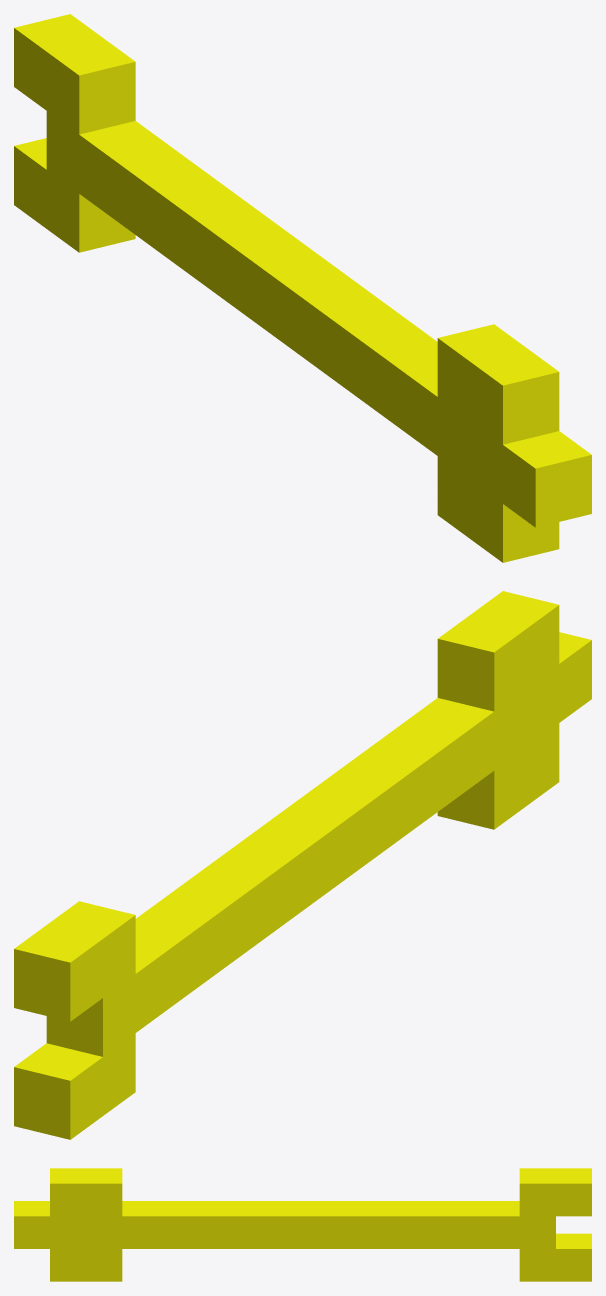
Rendered from voxel-knights-arrow.glb.
The picture shows the model from 3 angles, top to bottom: view 1: azimuth 30°, elevation 25°; view 2: azimuth 150°, elevation 25°; view 3: azimuth 270°, elevation 25°; orthographic projection. The views are drawn at different scales.
Visible parts, largest first — view 1: VS_Knights_Props_Arrow_001; view 2: VS_Knights_Props_Arrow_001; view 3: VS_Knights_Props_Arrow_001.
Part boxes in pixels (x1=…): VS_Knights_Props_Arrow_001: x1=14, y1=14, x2=591, y2=562; VS_Knights_Props_Arrow_001: x1=14, y1=591, x2=591, y2=1139; VS_Knights_Props_Arrow_001: x1=14, y1=1168, x2=591, y2=1281.
Bounding box in the file's own units: 0.1 × 0.3 × 1.6.
